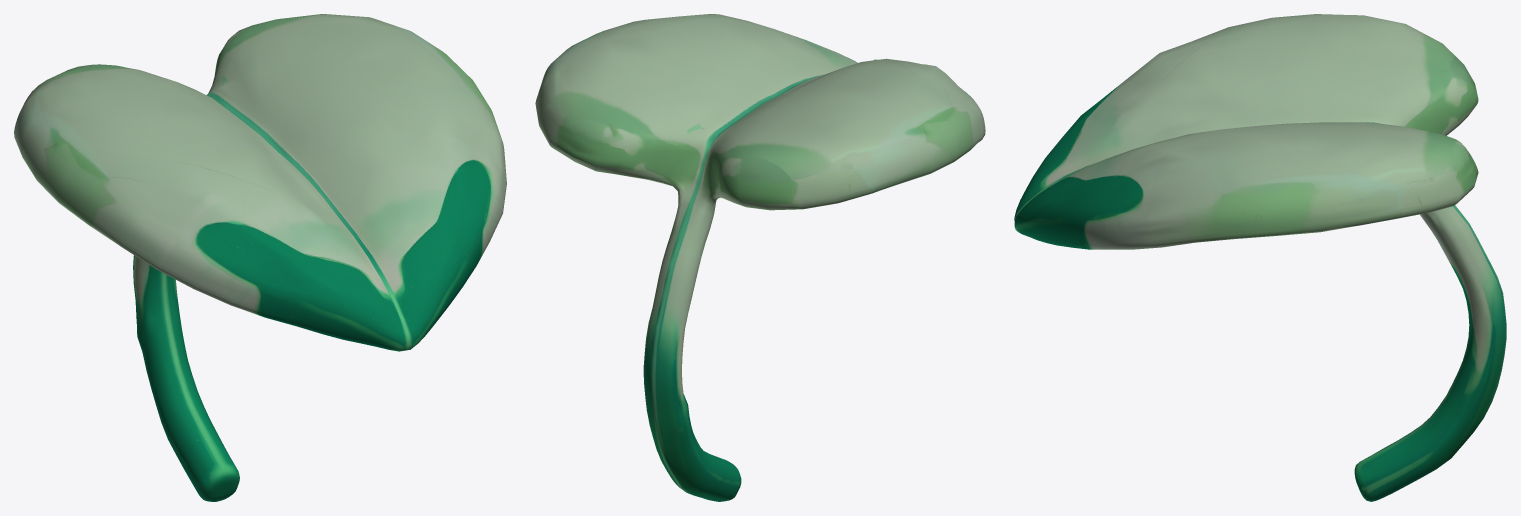
File: heart_albo_2672_3_new.glb
3 renders of one model, left to right at view 1: azimuth 30°, elevation 25°; view 2: azimuth 150°, elevation 25°; view 3: azimuth 270°, elevation 25°, orthographic. The views are drawn at different scales.
Bounding box in the file's own units: 1.82 × 1.85 × 2.
Materials: 1 (1 with a texture image).
